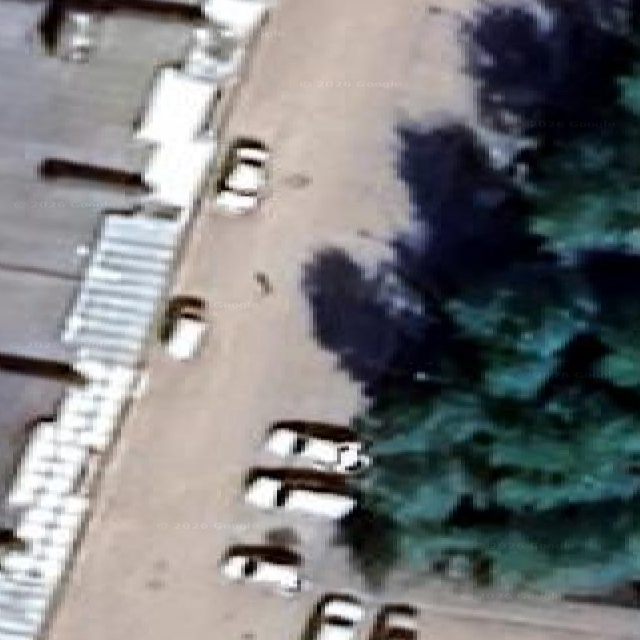car: (184, 0, 270, 84), (244, 467, 355, 519), (264, 420, 369, 472), (220, 544, 303, 593), (216, 140, 267, 215), (183, 26, 243, 83), (160, 296, 206, 360), (303, 593, 364, 639), (60, 9, 99, 60), (368, 604, 415, 639)
